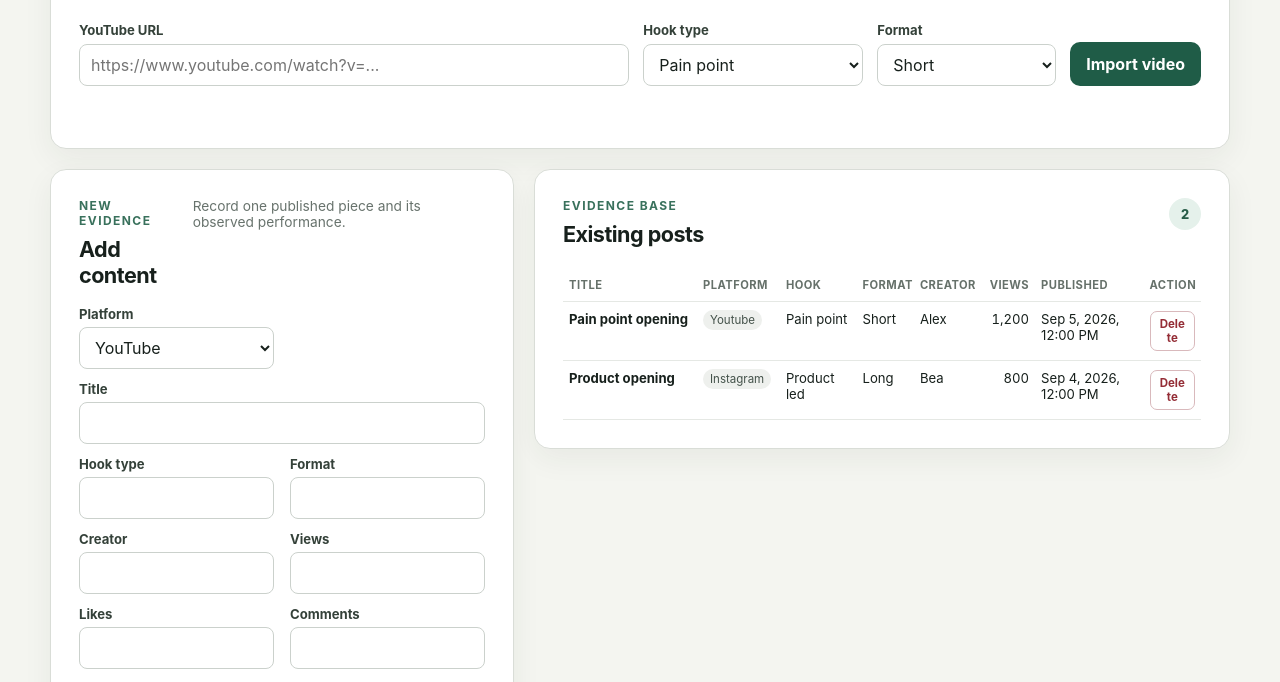
Scenario: App › shows an error and keeps dashboard data when deletion fails
(page scrolled)
Click the button "Delete" in the row of "Pain point opening".
click(1172, 331)  # box [1150, 311, 1195, 351]
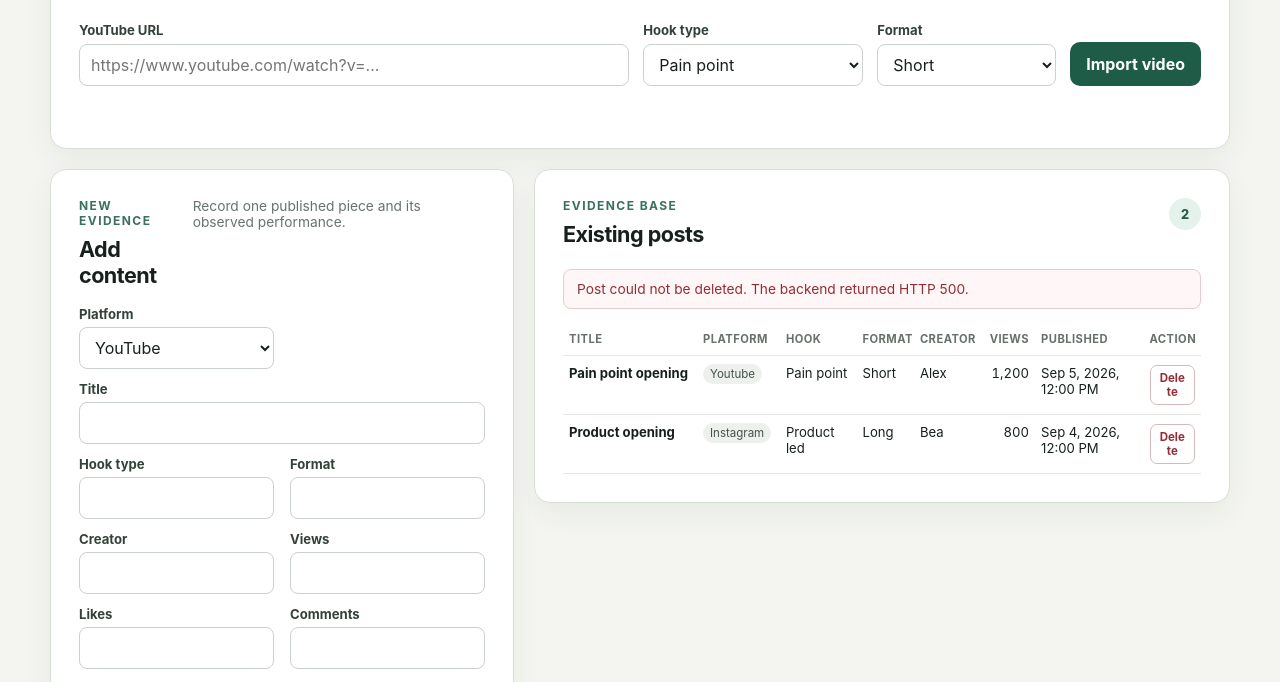
Expected: the column heading "Pain point opening" is shown, [563, 356, 697, 414]
Result: the message reads "Post could not be deleted. The backend returned HTTP 500." at [563, 269, 1201, 309]
